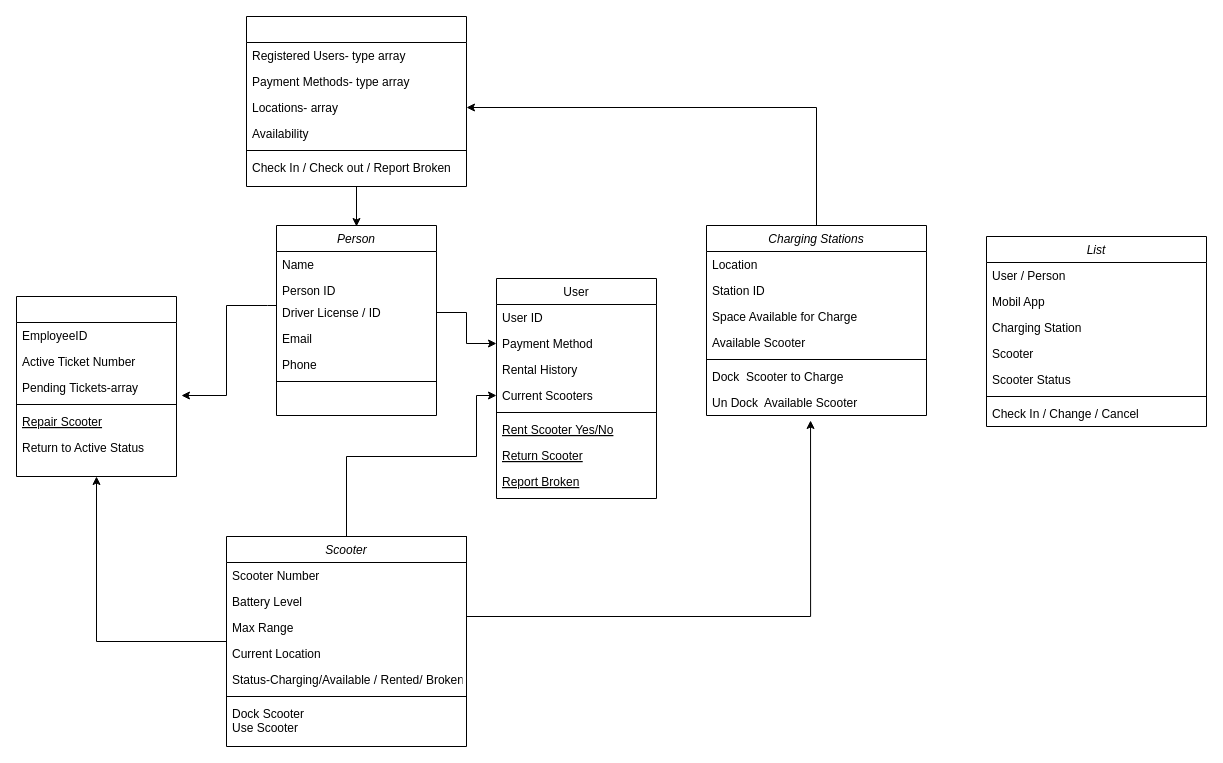
This 1223x763 diagram has some shape labels left out. Here are the shapes that lost their labels. From the top down, the box of each, then its label:
(246, 16, 466, 186): Mobile App
(16, 296, 176, 476): Maintenance
